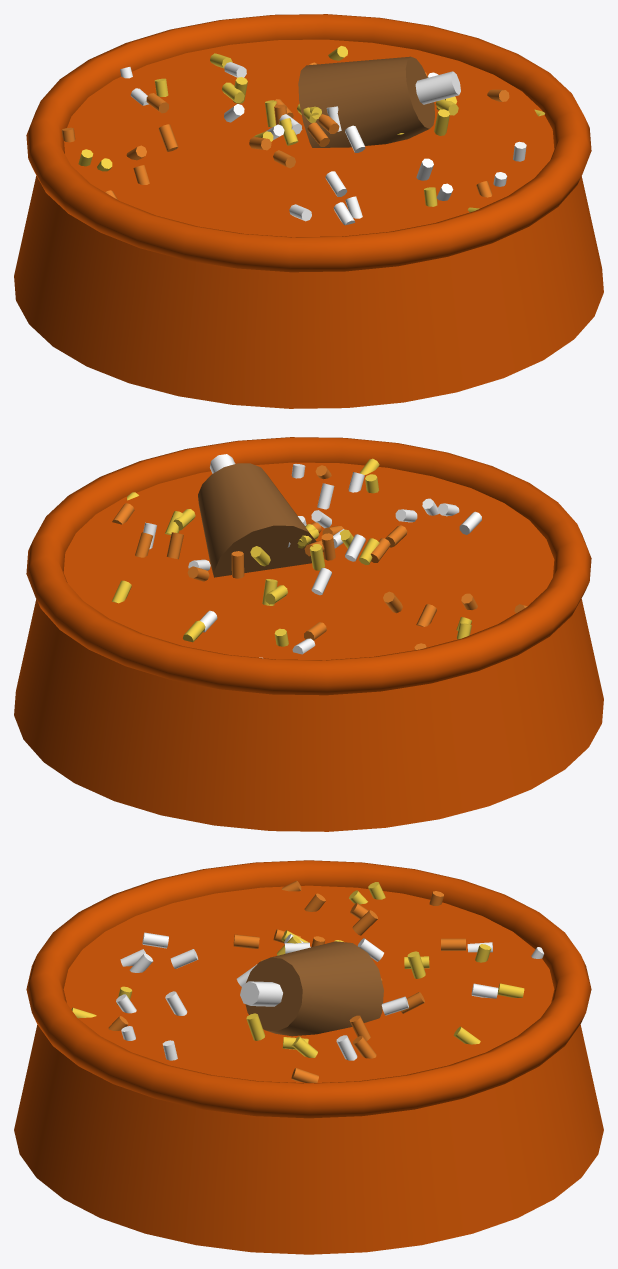
The model's file is chicken-biryani.glb.
The picture shows the model from 3 angles, top to bottom: view 1: azimuth 30°, elevation 25°; view 2: azimuth 150°, elevation 25°; view 3: azimuth 270°, elevation 25°; orthographic projection.
Size of the model in its own units: 1.9 by 0.756 by 1.9.
